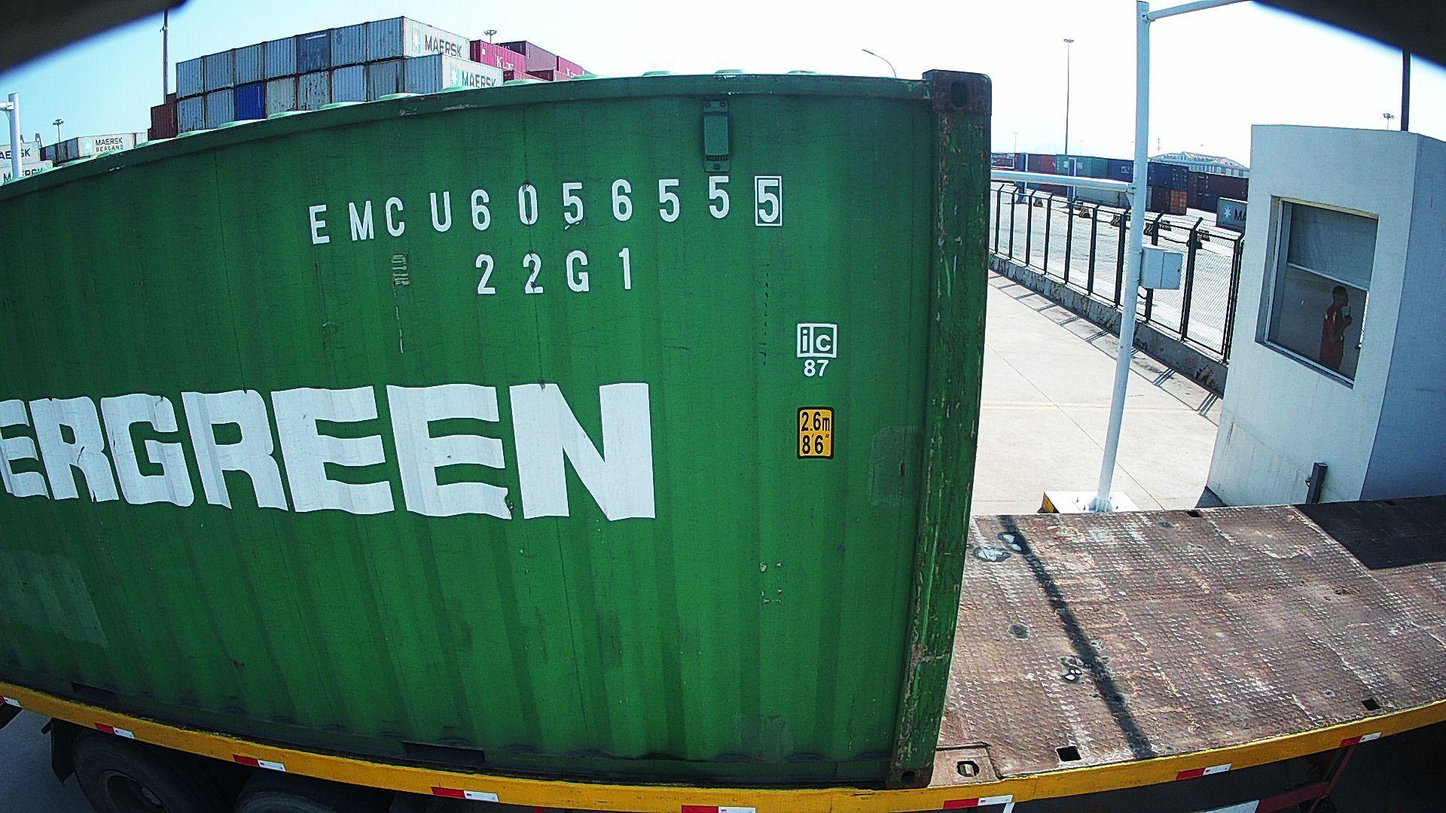container-numbers: (301, 170, 784, 246), (468, 245, 638, 303)
